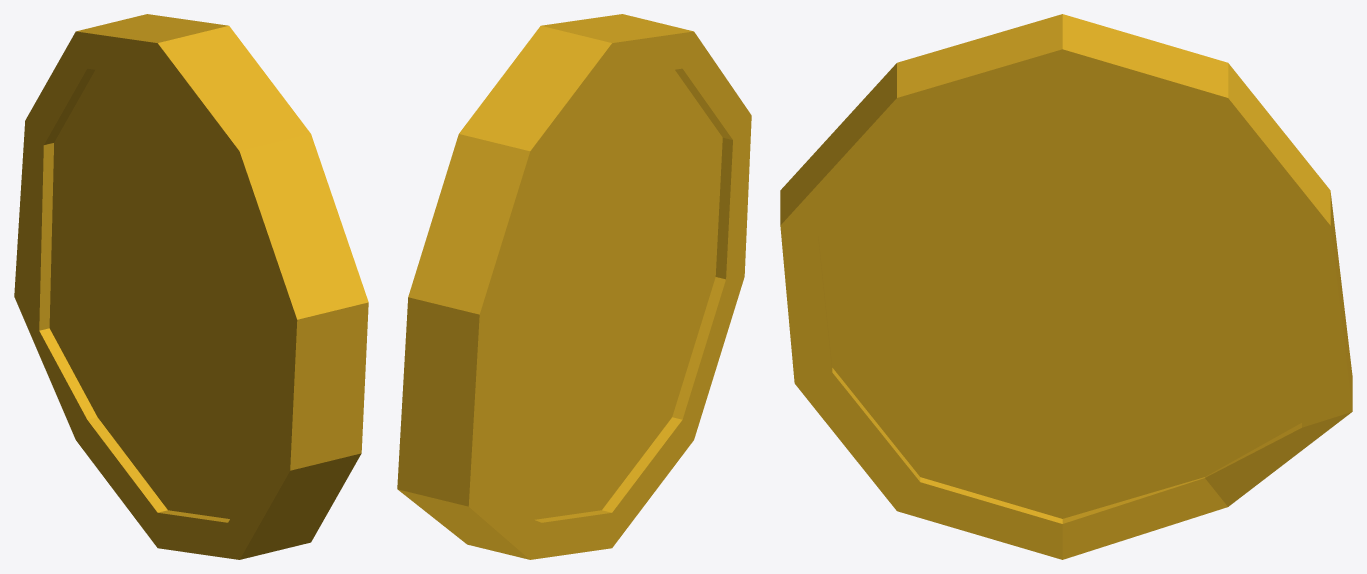
Rendered from Munt.fbx.
The picture shows the model from 3 angles, left to right: view 1: azimuth 30°, elevation 25°; view 2: azimuth 150°, elevation 25°; view 3: azimuth 270°, elevation 25°; orthographic projection.
Visible parts, largest first — view 1: muntje; view 2: muntje; view 3: muntje.
Part boxes in pixels (x1=…): muntje: x1=14, y1=14, x2=368, y2=559; muntje: x1=397, y1=14, x2=751, y2=559; muntje: x1=780, y1=14, x2=1352, y2=559.
Bounding box in the file's own units: 9.12 × 61.55 × 62.5.
